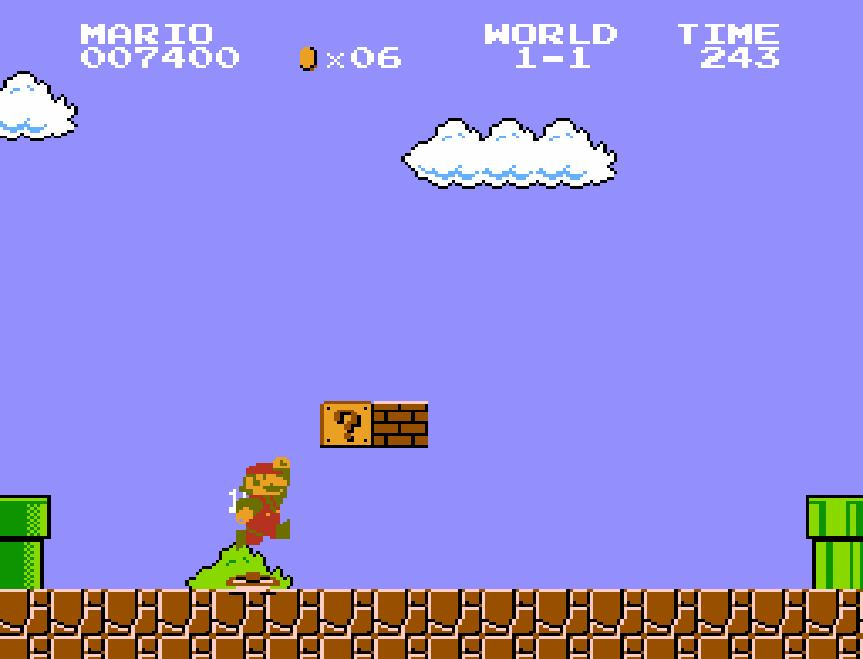big_mario: (234, 455, 291, 553)
